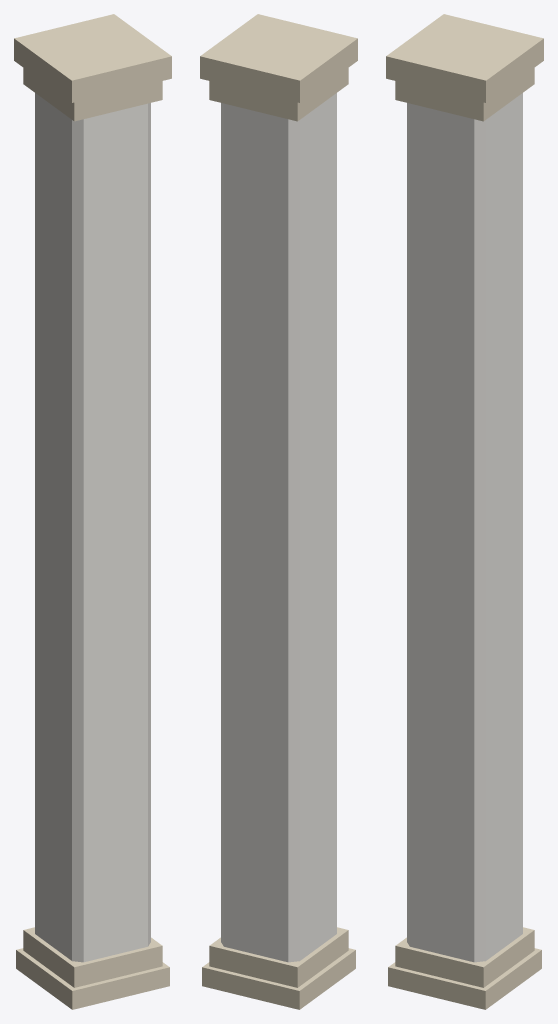
Rendered from SM_LPI_Struct_Column_01.fbx.
The picture shows the model from 3 angles, left to right: view 1: azimuth 30°, elevation 25°; view 2: azimuth 150°, elevation 25°; view 3: azimuth 330°, elevation 25°; orthographic projection.
Parts seen in each view (by area): view 1: SM_LPI_Struct_Column_01; view 2: SM_LPI_Struct_Column_01; view 3: SM_LPI_Struct_Column_01.
Boxes of the visible parts, x1,y1,x2,y2 form: SM_LPI_Struct_Column_01: (14, 14, 171, 1009); SM_LPI_Struct_Column_01: (200, 14, 357, 1009); SM_LPI_Struct_Column_01: (386, 14, 543, 1009).
Size of the model in its own units: 0.304 by 2.7 by 0.304.
